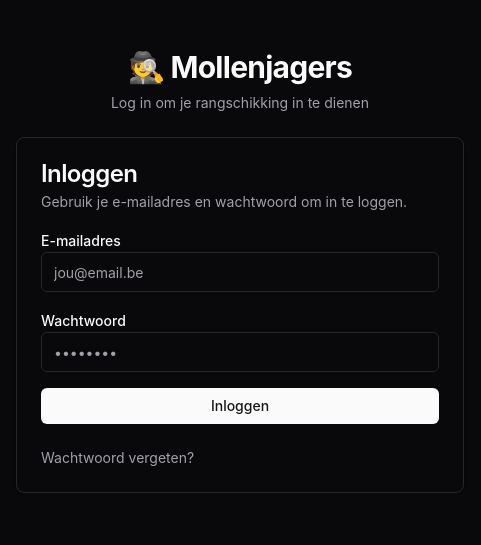
Test: LoginPage › shows validation error when only email is filled
Type "a@b.com" into the field labelled "E-mailadres" at (240, 272), box [41, 252, 439, 292]
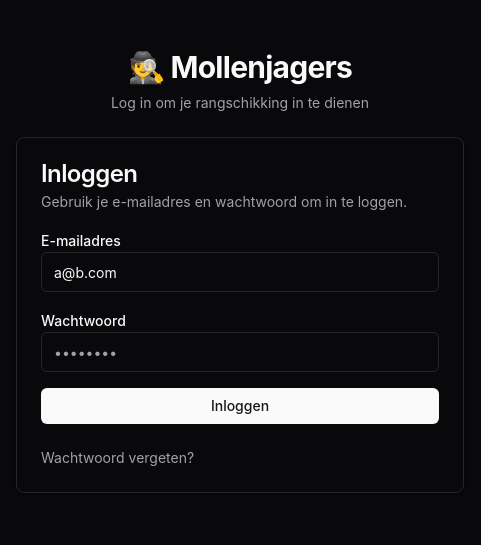
Click the button "Inloggen" at (240, 406), box [41, 388, 439, 424]
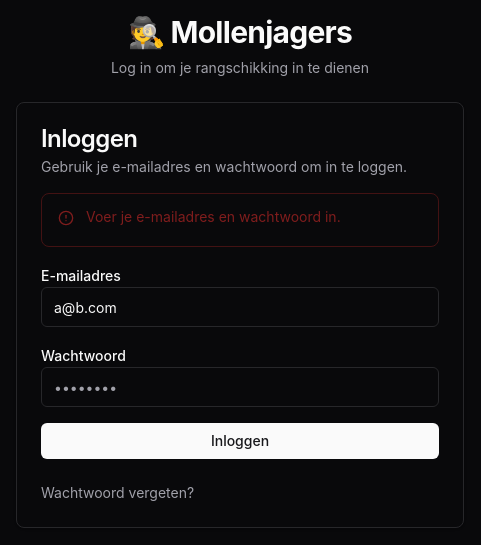
Expected: the text "Voer je e-mailadres en wachtwoord in." is shown, [86, 208, 341, 225]
